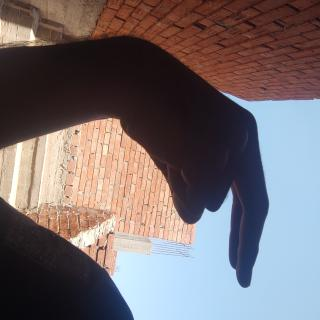ZAY: (18, 62, 217, 279)
